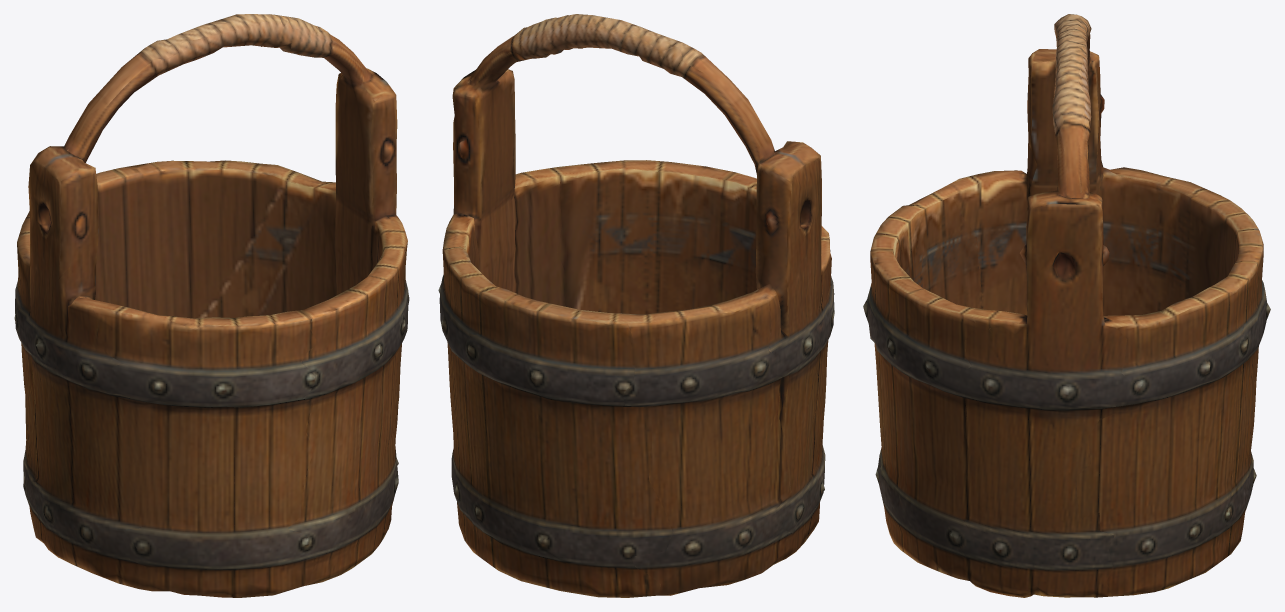
File: 경복궁_빈양동이.glb
The picture shows the model from 3 angles, left to right: view 1: azimuth 30°, elevation 25°; view 2: azimuth 150°, elevation 25°; view 3: azimuth 270°, elevation 25°; orthographic projection.
Visible parts, largest first — view 1: texture_mapping; view 2: texture_mapping; view 3: texture_mapping.
Boxes of the visible parts, left/top/right/bottom form: texture_mapping: left=14, top=14, right=409, bottom=597; texture_mapping: left=438, top=14, right=834, bottom=597; texture_mapping: left=863, top=14, right=1270, bottom=597.
Bounding box in the file's own units: 0.7353 × 1 × 0.7448.
1 material, 1 textured.
